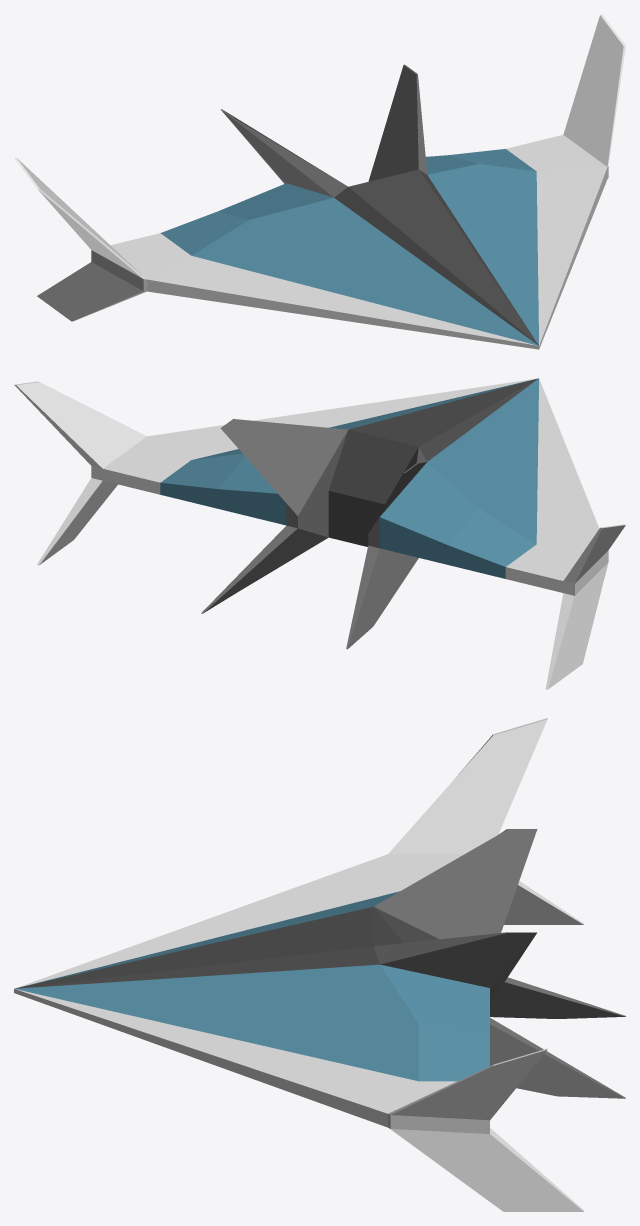
Rendered from ship_8.fbx.
3 views of the same model, one above another, from view 1: azimuth 30°, elevation 25°; view 2: azimuth 150°, elevation 25°; view 3: azimuth 270°, elevation 25° (orthographic). The views are drawn at different scales.
Visible parts, largest first — view 1: ship_8; view 2: ship_8; view 3: ship_8.
Boxes of the visible parts, x1,y1,x2,y2 form: ship_8: (14, 14, 625, 349); ship_8: (14, 378, 625, 689); ship_8: (14, 718, 625, 1211).
Size of the model in its own units: 1533 by 403 by 1195.
